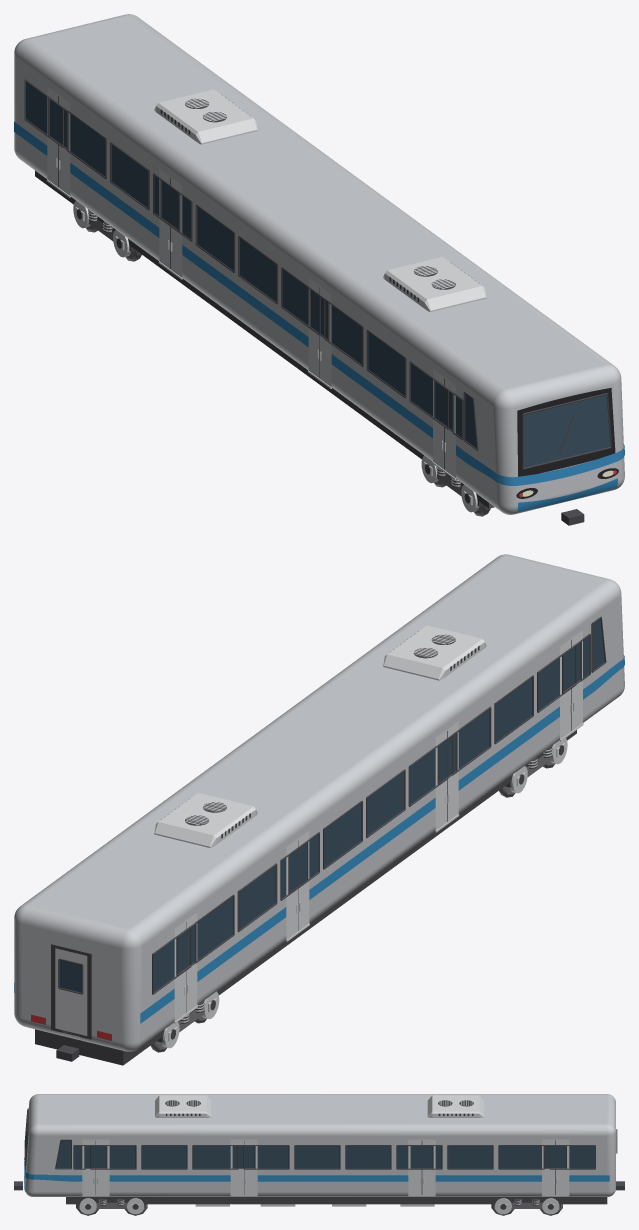
File: 372_close.fbx
The picture shows the model from 3 angles, top to bottom: view 1: azimuth 30°, elevation 25°; view 2: azimuth 150°, elevation 25°; view 3: azimuth 270°, elevation 25°; orthographic projection. The views are drawn at different scales.
Parts seen in each view (by area): view 1: 372_close; view 2: 372_close; view 3: 372_close.
Part boxes in pixels (bbox=[...]): 372_close: bbox=[14, 14, 624, 525]; 372_close: bbox=[14, 554, 624, 1065]; 372_close: bbox=[14, 1094, 624, 1215].
Size of the model in its own units: 3.01 by 3.8 by 20.6.
